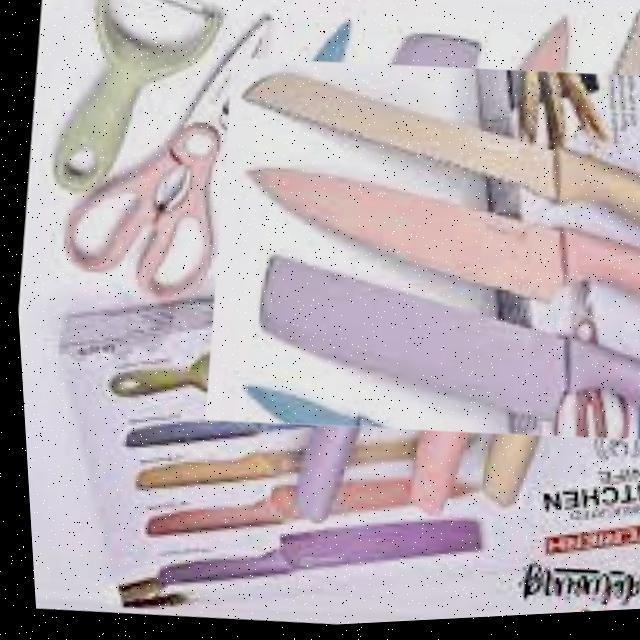knife: (240, 239, 640, 453), (231, 54, 640, 262), (231, 149, 640, 337)
